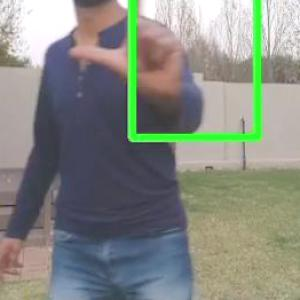land_hand: (64, 0, 191, 108)
